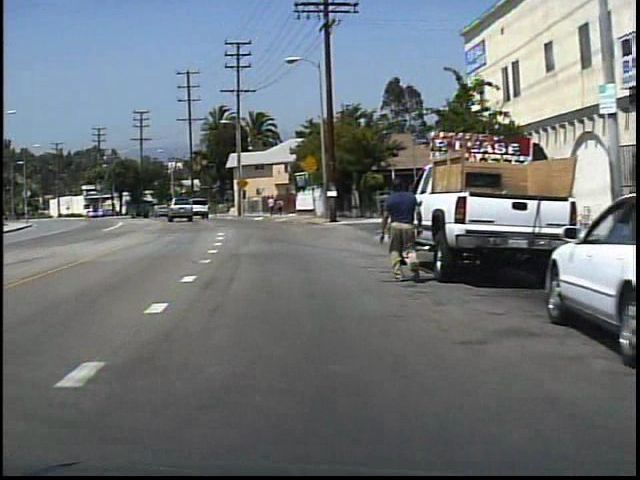person: (375, 171, 424, 285), (267, 194, 277, 218), (275, 197, 285, 217)
